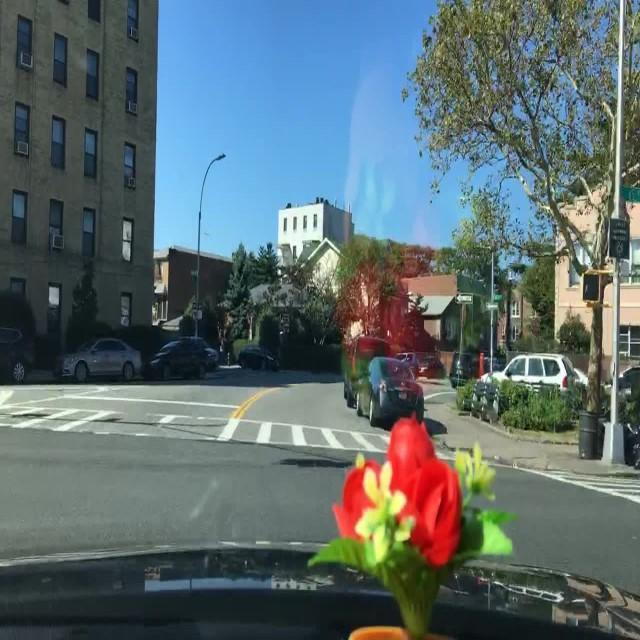multiple_accident: (327, 312, 445, 463)
normal: (36, 303, 243, 383)
